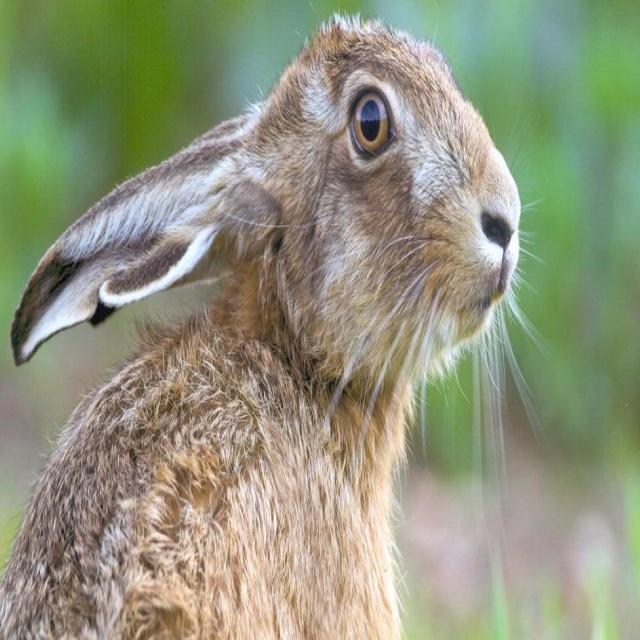hare: (1, 16, 521, 639)
